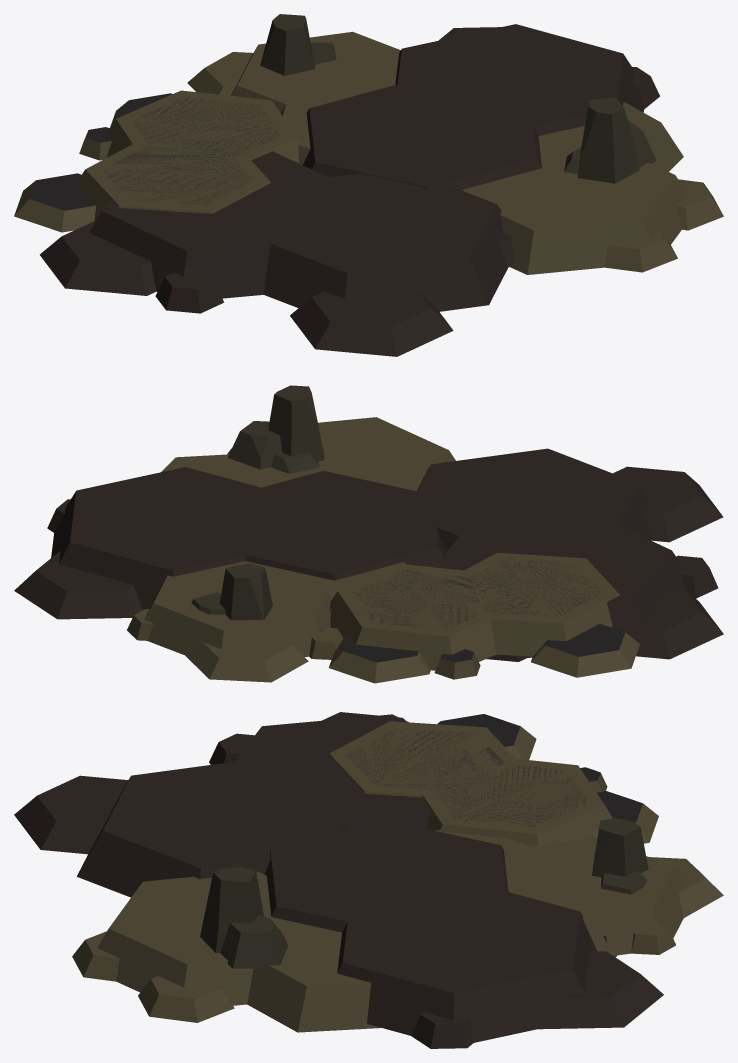
The model's file is small_map.fbx.
3 renders of one model, top to bottom at view 1: azimuth 30°, elevation 25°; view 2: azimuth 150°, elevation 25°; view 3: azimuth 270°, elevation 25°, orthographic. The views are drawn at different scales.
Parts seen in each view (by area): view 1: rockFlat.017, rockFlat.012, rockFlatGrass.001, rockFlat.015, rockFlat.011, rockA.002, rockA.003; view 2: rockFlat.012, rockFlat.017, rockFlatGrass.001, rockFlat.011, rockFlat.015, rockA.002, rockA.003; view 3: rockFlat.012, rockFlat.017, rockFlat.015, rockFlatGrass.001, rockFlat.011, rockA.002, rockA.003.
Boxes of the visible parts, x1,y1,x2,y2 form: rockFlat.017: [39, 151, 513, 356]; rockFlat.012: [303, 24, 659, 190]; rockFlatGrass.001: [14, 90, 300, 232]; rockFlat.015: [462, 102, 723, 274]; rockFlat.011: [187, 31, 400, 164]; rockA.002: [564, 97, 656, 183]; rockA.003: [260, 14, 336, 75]; rockFlat.012: [14, 467, 446, 627]; rockFlat.017: [417, 448, 723, 661]; rockFlatGrass.001: [329, 552, 639, 683]; rockFlat.011: [127, 561, 404, 682]; rockFlat.015: [161, 417, 455, 490]; rockA.002: [227, 385, 324, 473]; rockA.003: [191, 563, 272, 620]; rockFlat.012: [264, 819, 663, 1048]; rockFlat.017: [14, 712, 430, 897]; rockFlat.015: [72, 871, 380, 1032]; rockFlatGrass.001: [328, 714, 658, 846]; rockFlat.011: [435, 830, 723, 955]; rockA.002: [200, 867, 288, 968]; rockA.003: [592, 818, 648, 894].
Bounding box in the file's own units: 4236 × 625 × 3894.
